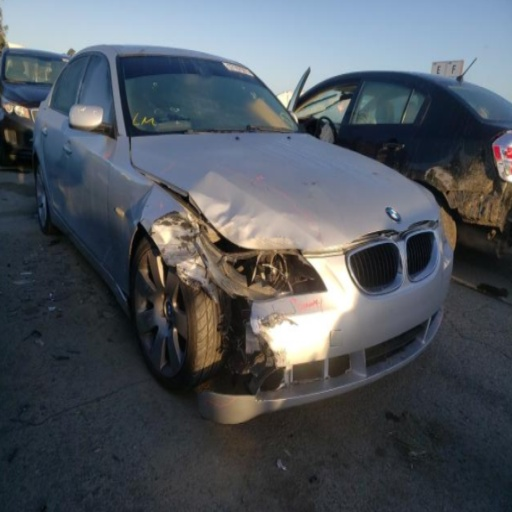dent: (184, 171, 318, 249), (282, 205, 321, 245)
scratch: (257, 313, 295, 329), (289, 298, 322, 313)
